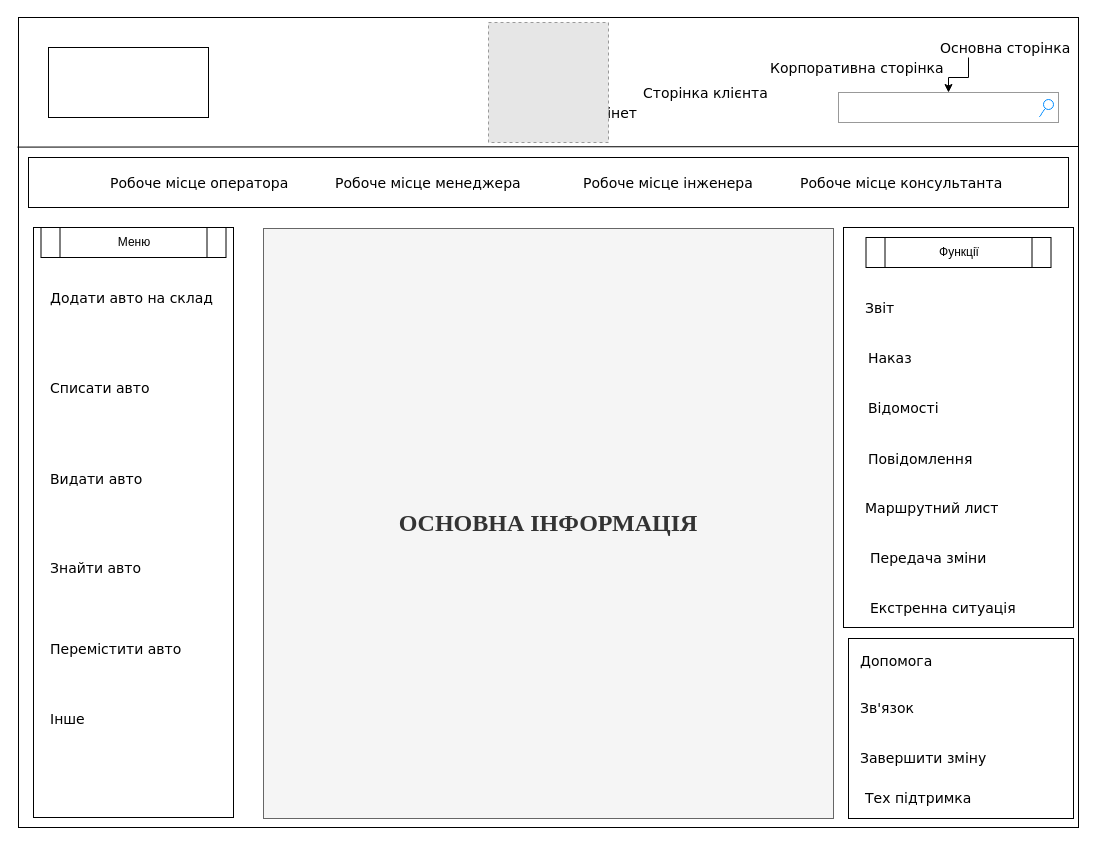
This 1098x845 diagram has some shape labels left out. Grey dashed boxes stand in for pictures. Here are the shapes that lost their labels. From the top down, the centre of each, then its label:
(128,82): Tesla
(948,107): Пошук
